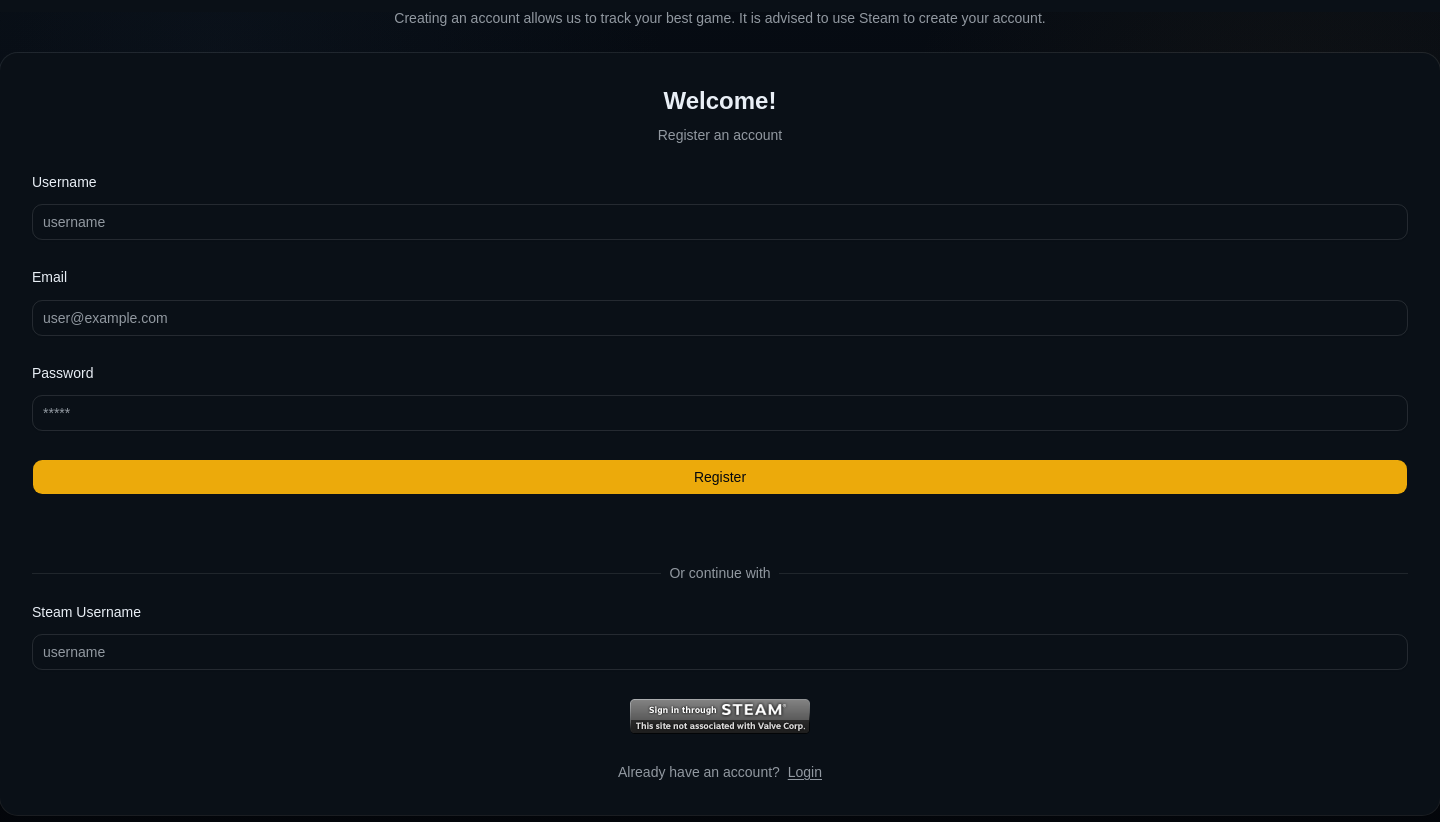
Test: RegistrationForm › shows an error and does not navigate when registration is rejected
Type "playerusername" into the field labelled "Username" at coordinates (720, 222), box x1=32 y1=204 x2=1408 y2=240
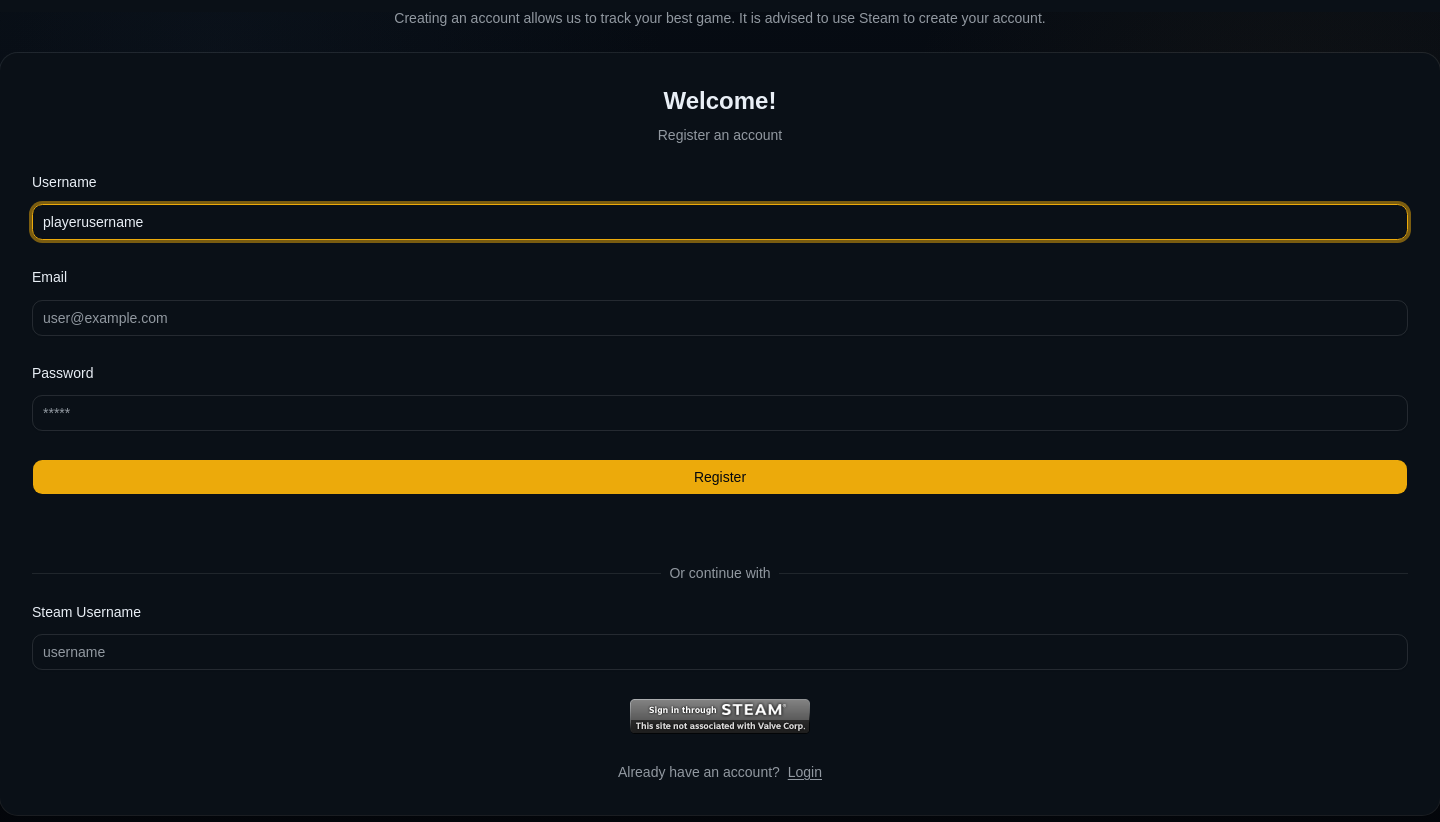
Type "player@example.com" into the field labelled "Email" at coordinates (720, 318), box x1=32 y1=300 x2=1408 y2=336
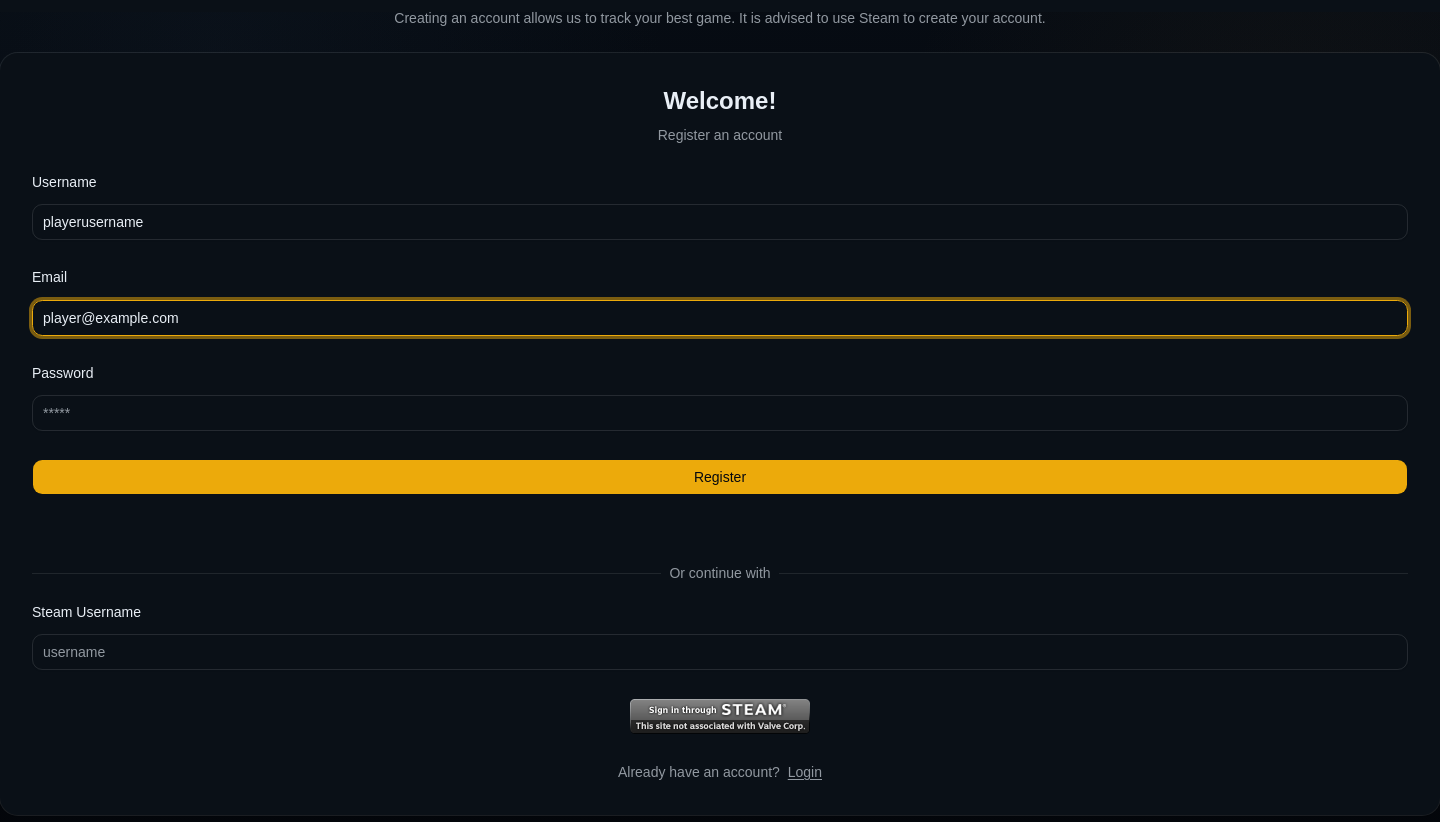
Type "playerexamplepassword" into the password field labelled "Password" at coordinates (720, 413), box x1=32 y1=395 x2=1408 y2=431
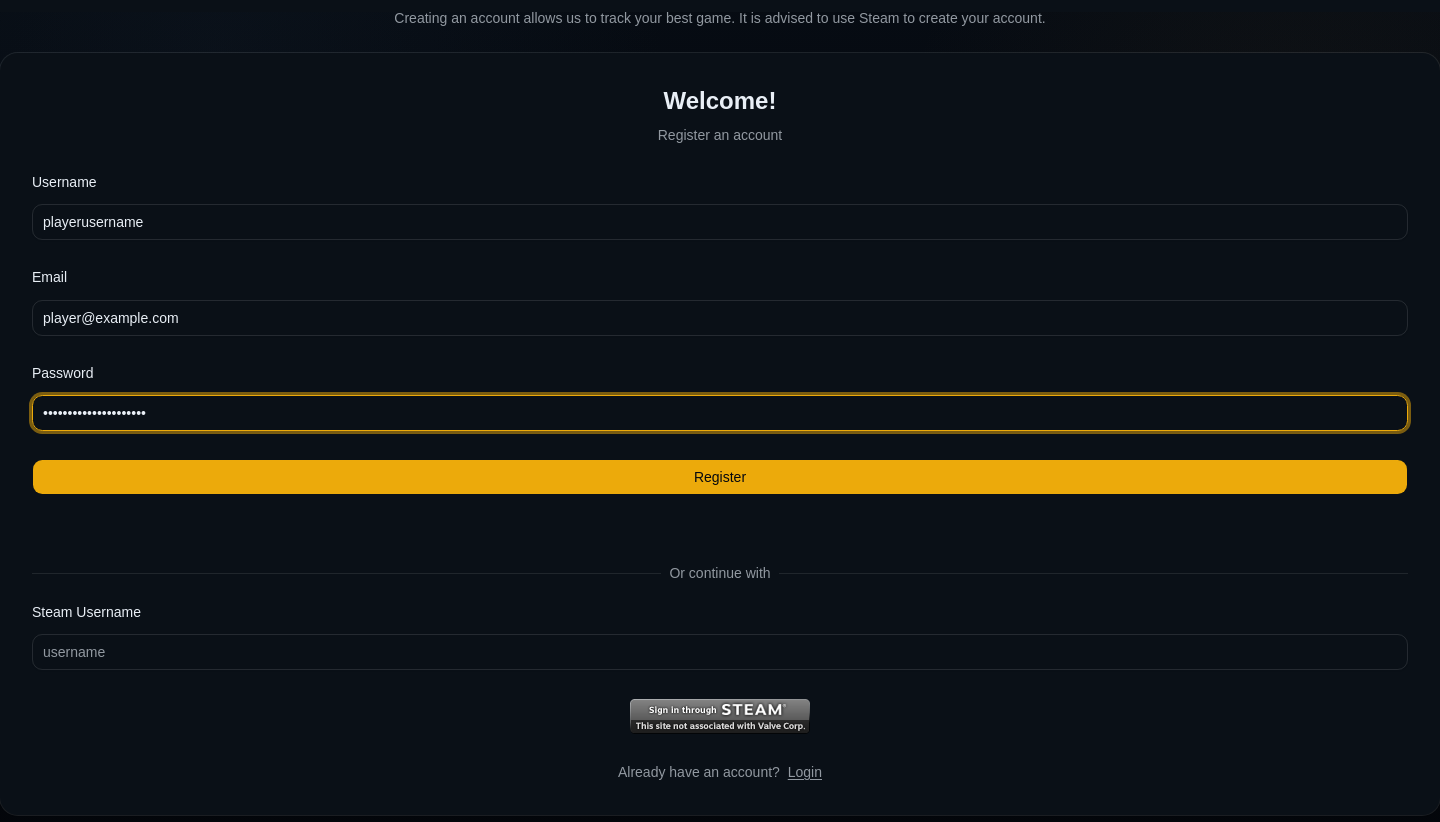
Click the button "Register" at coordinates (720, 477), box x1=32 y1=459 x2=1408 y2=495
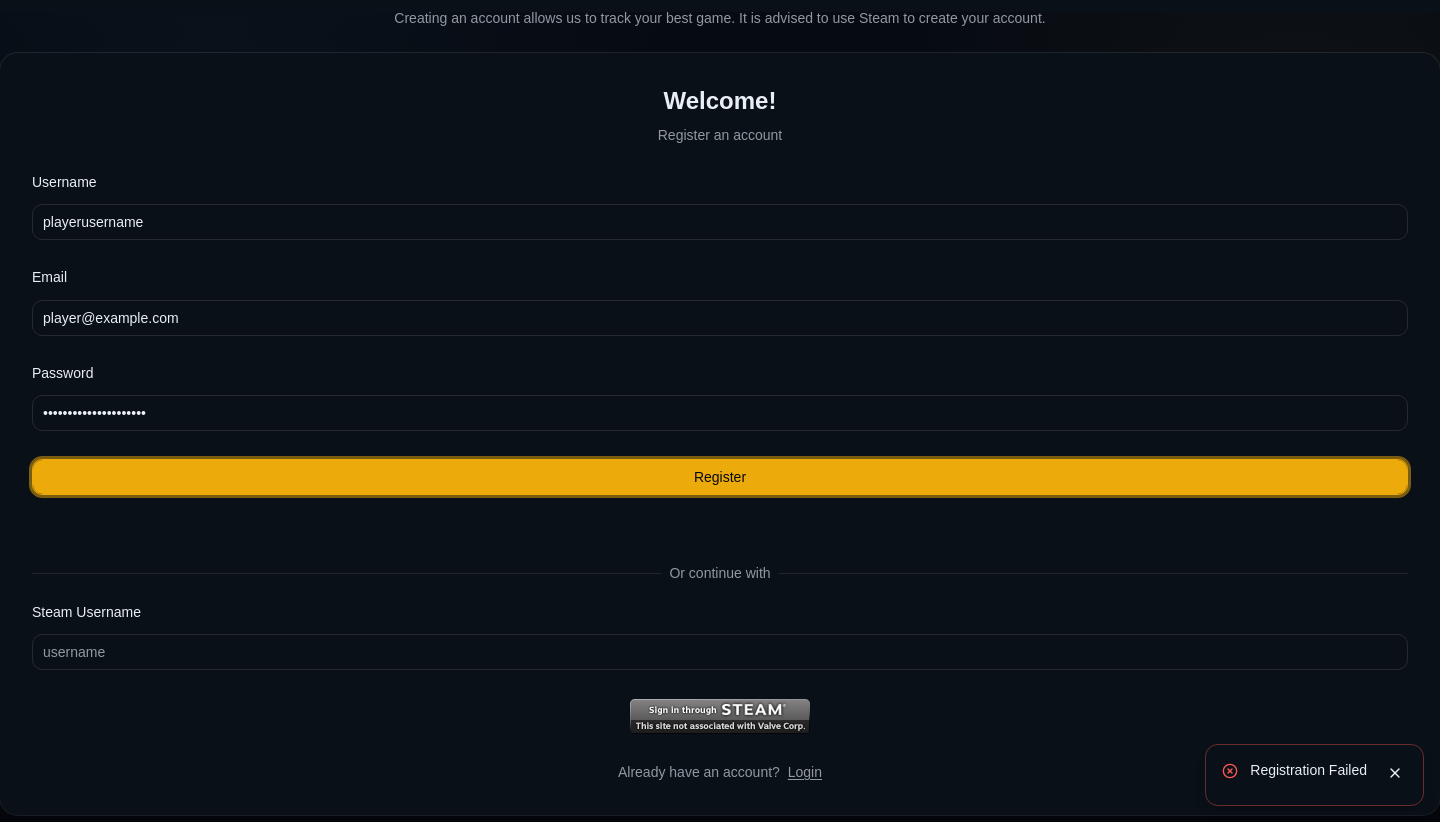
Expected: the text "Registration Failed" is shown, x1=1250 y1=761 x2=1367 y2=780
